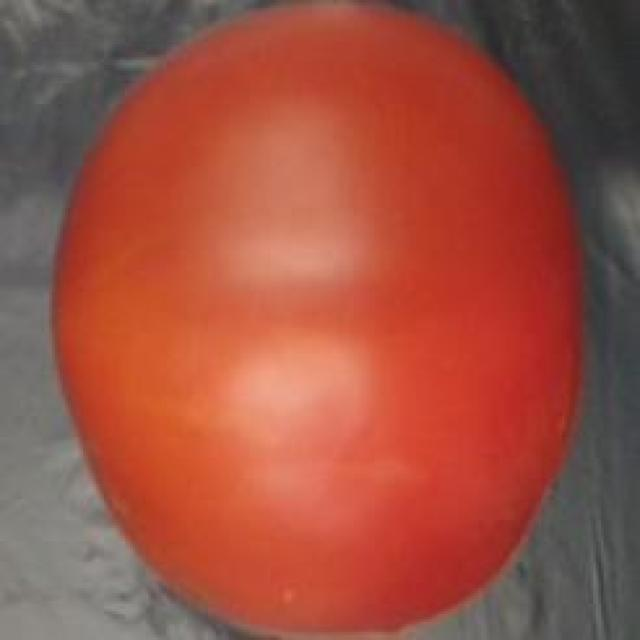ripe tomato: (36, 0, 598, 640)
